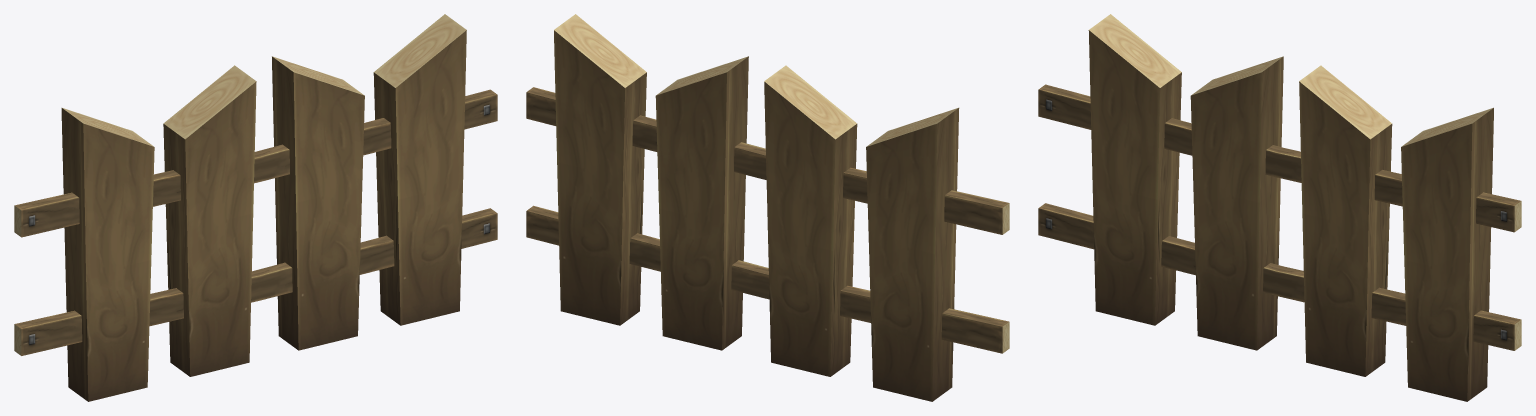
File: wooden_fence_30.fbx
3 views of the same model, side by side, from view 1: azimuth 30°, elevation 25°; view 2: azimuth 150°, elevation 25°; view 3: azimuth 330°, elevation 25° (orthographic).
Parts seen in each view (by area): view 1: wooden_fence_30:Mesh; view 2: wooden_fence_30:Mesh; view 3: wooden_fence_30:Mesh.
Part boxes in pixels (x1,y1,x2,y2): wooden_fence_30:Mesh: [14, 14, 497, 401]; wooden_fence_30:Mesh: [526, 14, 1009, 401]; wooden_fence_30:Mesh: [1038, 14, 1521, 401].
Bounding box in the file's own units: 5.57 × 3.14 × 0.4425.
